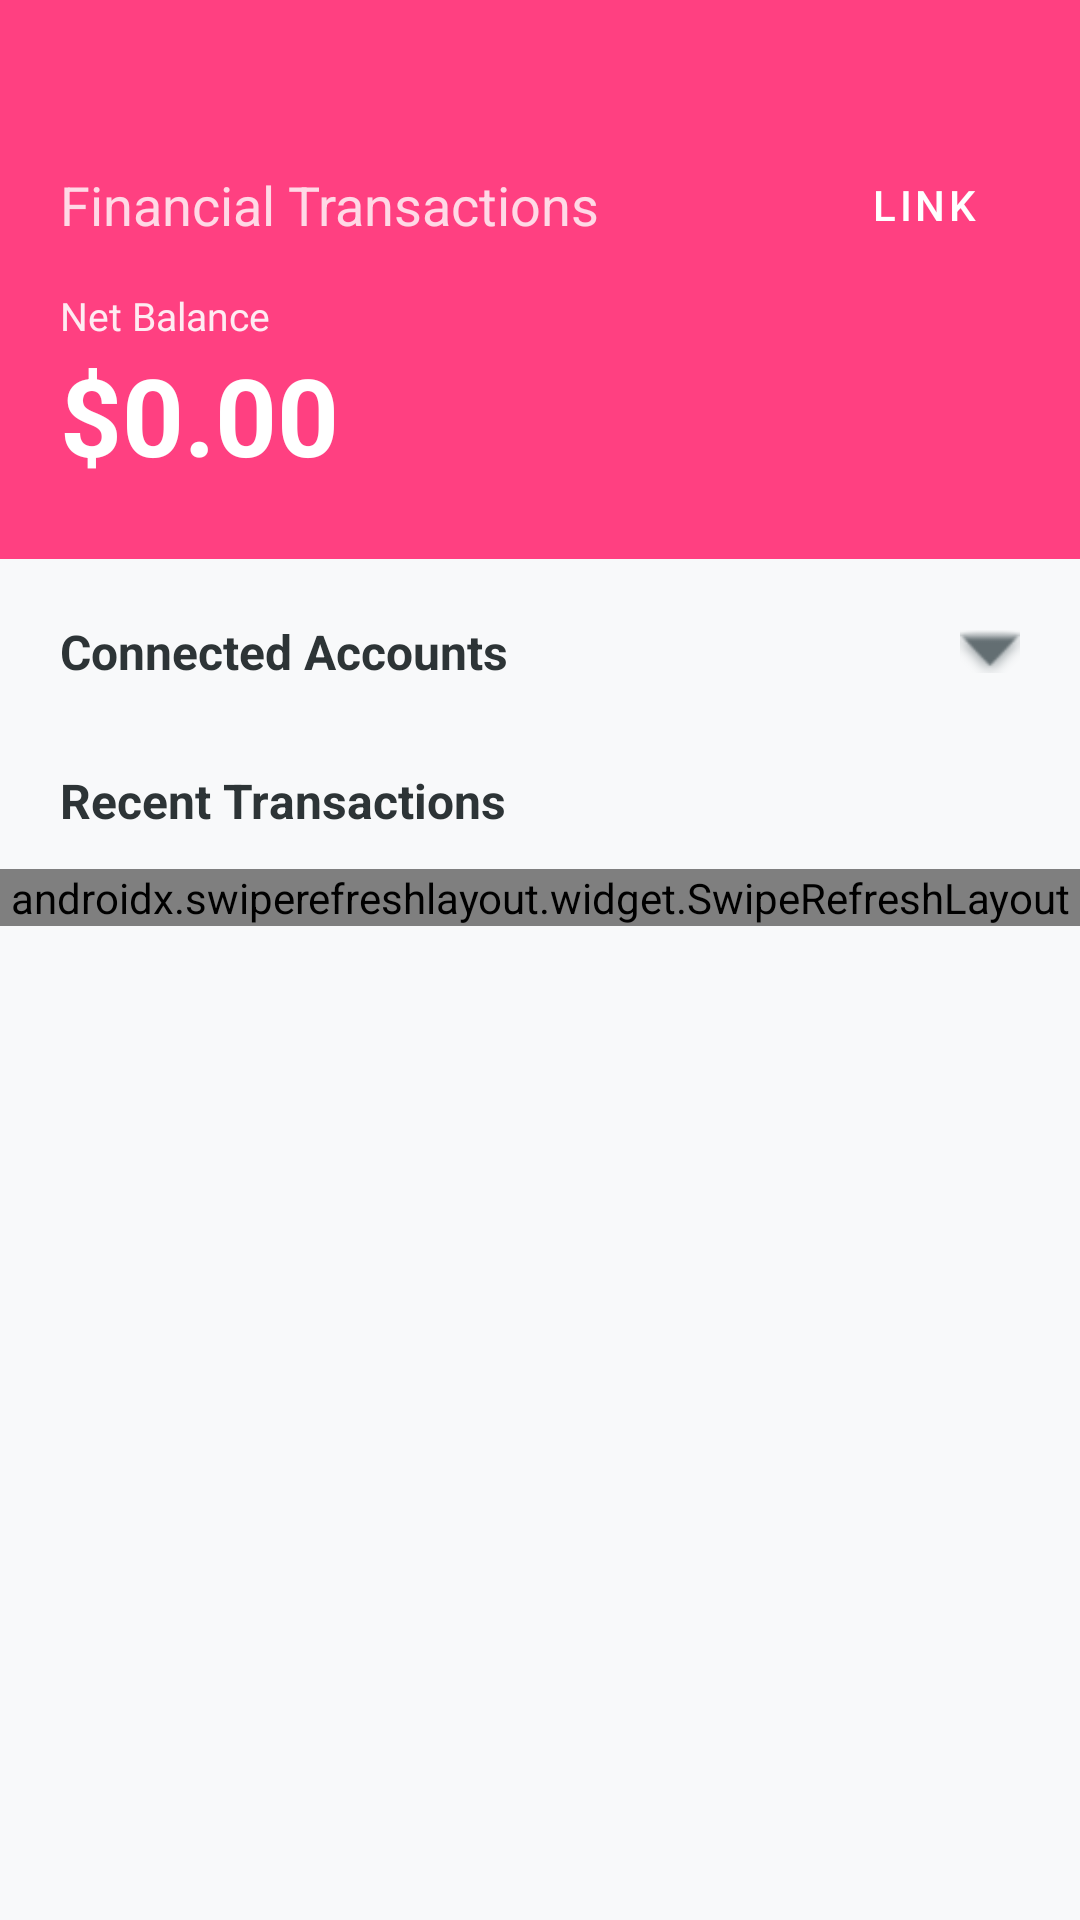

Icons on this 1080px x 1920px Android screen, each with the point to tap as (x=x, y=y):
arrow down float: (x=990, y=650)
